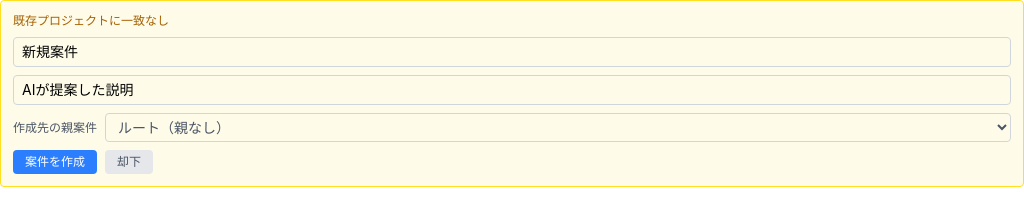
Test: NewProjectProposal › disables approve button when name is empty
Clear the 1st field showing "新規案件" at (512, 52), box [13,37,1011,67]
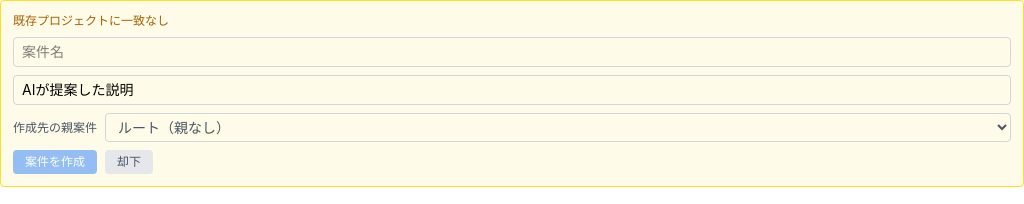
Now the button "案件を作成" is disabled, box [13,150,97,174]
